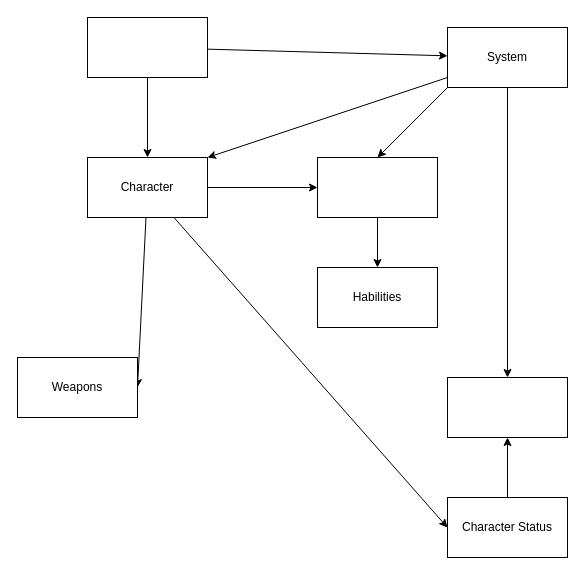
The diagram is 585 pixels wide and 575 high, and some of its shapes have lost their labels. The centre of each missing label's shape, as x and y in pixels:
Classes: pixel 377 187
Status: pixel 507 407
User: pixel 147 47
